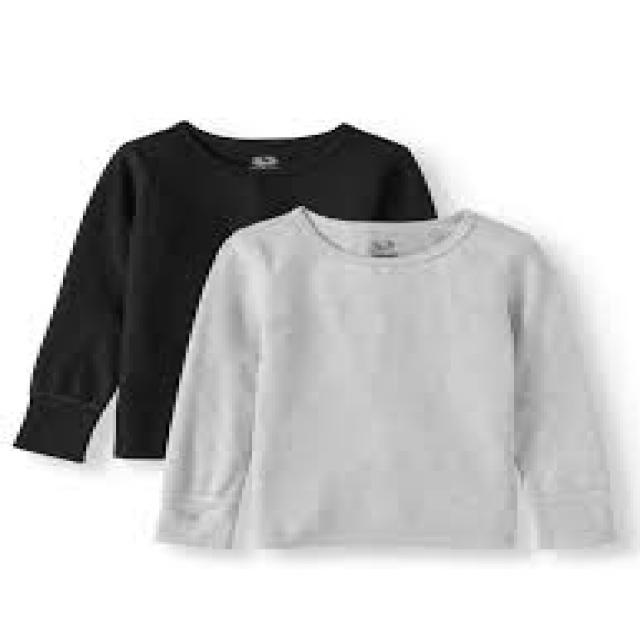plain: (18, 108, 460, 480), (153, 210, 617, 558)
